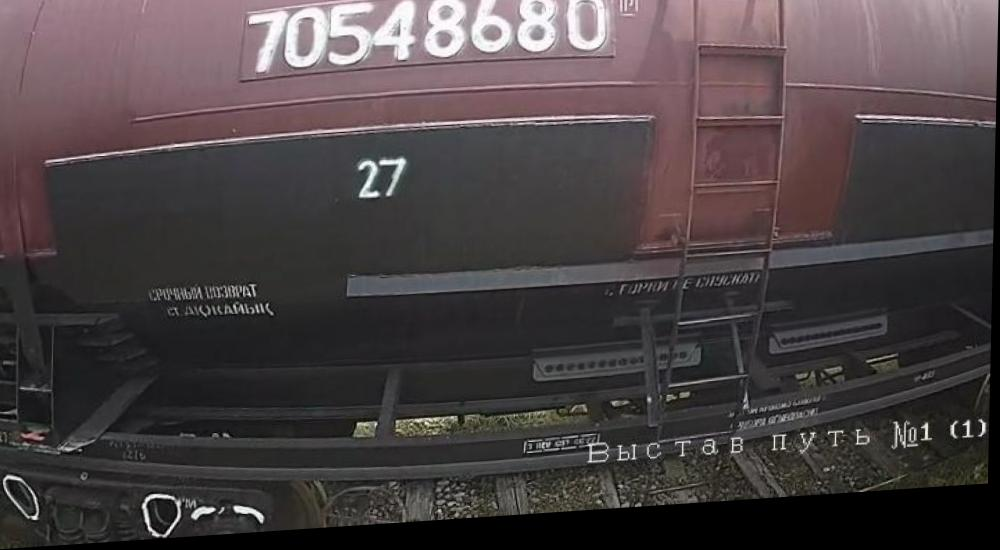Wagon-number: (247, 0, 613, 83)
